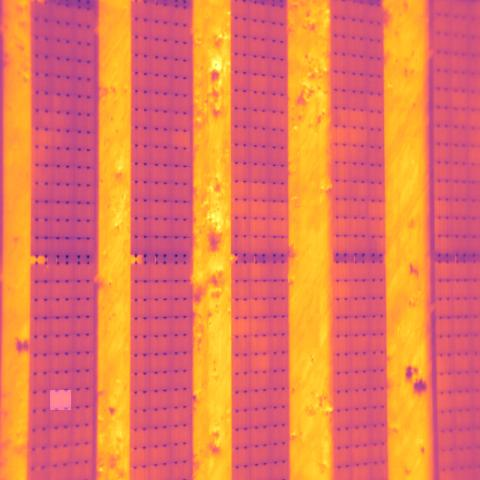fault: (50, 390, 71, 410)
